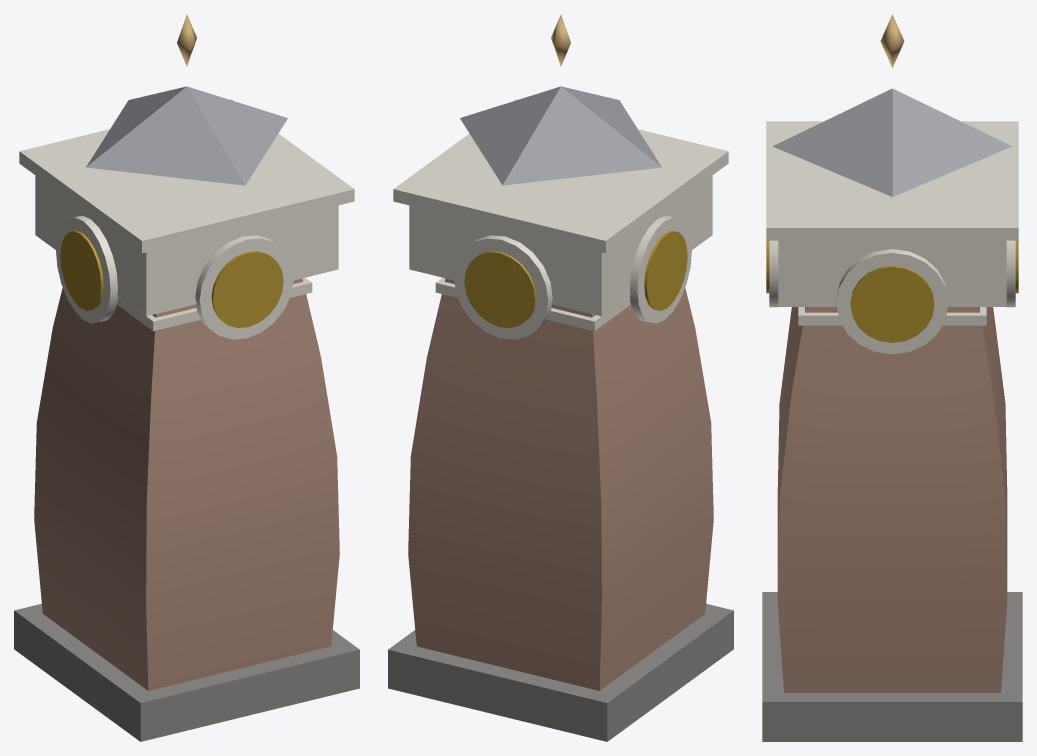
File: clock_tower.fbx
The picture shows the model from 3 angles, left to right: view 1: azimuth 30°, elevation 25°; view 2: azimuth 150°, elevation 25°; view 3: azimuth 270°, elevation 25°; orthographic projection. The views are drawn at different scales.
Visible parts, largest first — view 1: shaft, belfryCap, plinth, roof, belfry, clockDial, clockFace, clockDial_3, clockFace_3, course_4, spike; view 2: shaft, belfryCap, plinth, roof, belfry, clockDial_2, clockFace_2, clockDial_3, clockFace_3, course_4, spike; view 3: shaft, belfryCap, plinth, roof, belfry, clockDial_1, clockFace_1, course_4, spike, clockFace, clockFace_2.
Boxes of the visible parts, x1,y1,x2,y2 form: shaft: [34, 278, 339, 690]; belfryCap: [19, 99, 354, 253]; plinth: [14, 603, 359, 741]; roof: [86, 86, 287, 185]; belfry: [35, 175, 338, 316]; clockDial: [211, 251, 283, 327]; clockFace: [195, 235, 293, 339]; clockDial_3: [60, 230, 103, 310]; clockFace_3: [56, 215, 118, 323]; course_4: [117, 277, 312, 331]; spike: [177, 14, 196, 66]; shaft: [408, 278, 713, 690]; belfryCap: [393, 99, 728, 253]; plinth: [388, 603, 733, 741]; roof: [460, 86, 661, 185]; belfry: [409, 175, 712, 316]; clockDial_2: [464, 251, 536, 327]; clockFace_2: [454, 235, 552, 339]; clockDial_3: [644, 230, 687, 310]; clockFace_3: [629, 215, 691, 323]; course_4: [435, 277, 630, 331]; spike: [551, 14, 570, 66]; shaft: [777, 307, 1007, 692]; belfryCap: [766, 121, 1018, 240]; plinth: [762, 592, 1022, 741]; roof: [773, 88, 1011, 196]; belfry: [778, 240, 1006, 306]; clockDial_1: [850, 265, 934, 342]; clockFace_1: [836, 249, 948, 354]; course_4: [798, 307, 986, 325]; spike: [880, 14, 904, 67]; clockFace: [769, 240, 778, 307]; clockFace_2: [1006, 240, 1015, 307].
Size of the model in its own units: 13 by 37.1 by 13.
